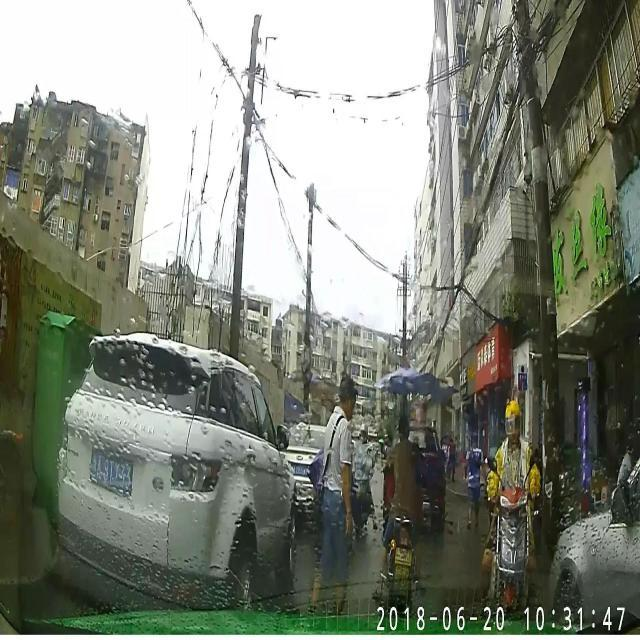car: (55, 330, 298, 620), (548, 432, 640, 634), (382, 420, 448, 536), (278, 420, 340, 522)
